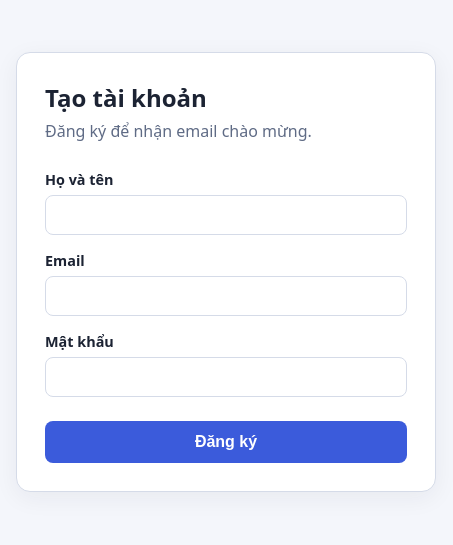
App (form đăng ký) › F-07 lỗi mạng: hiển thị thông báo không kết nối được
Type "Nguyen Van A" into the field labelled "Họ và tên" at coordinates (226, 215), box [45,195,407,235]
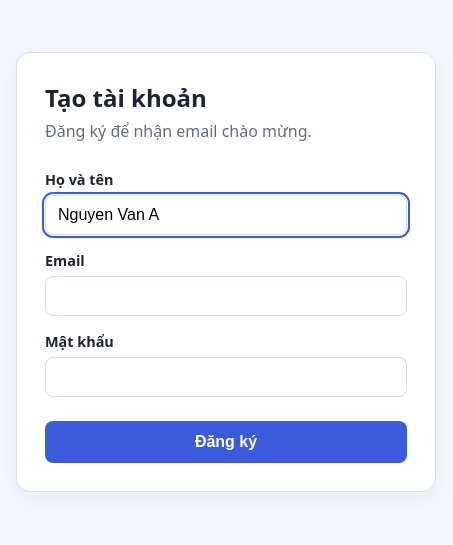
Type "a@example.com" into the field labelled "Email" at coordinates (226, 296), box [45,276,407,316]
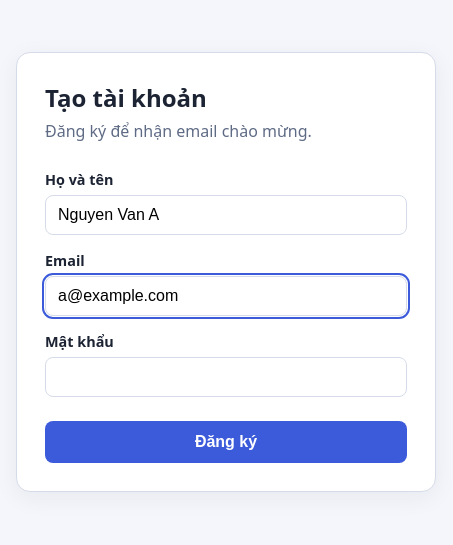
Type "secret123" into the password field labelled "Mật khẩu" at coordinates (226, 377), box [45,357,407,397]
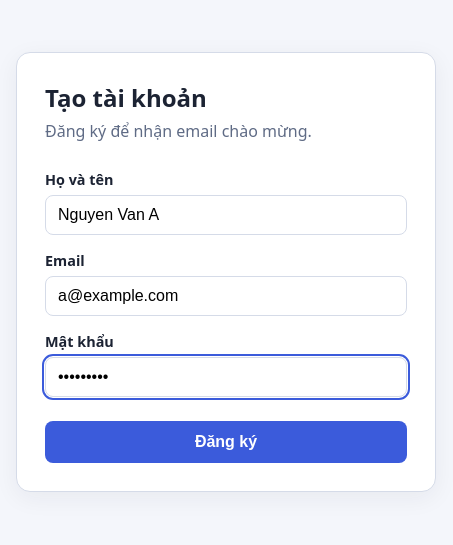
Click the button "Đăng ký" at coordinates (226, 442), box [45,421,407,463]
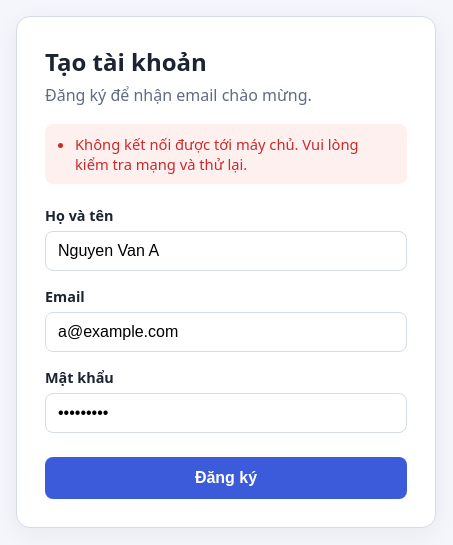
Now the message shows "Không kết nối được tới máy chủ", box [75,134,359,174]
